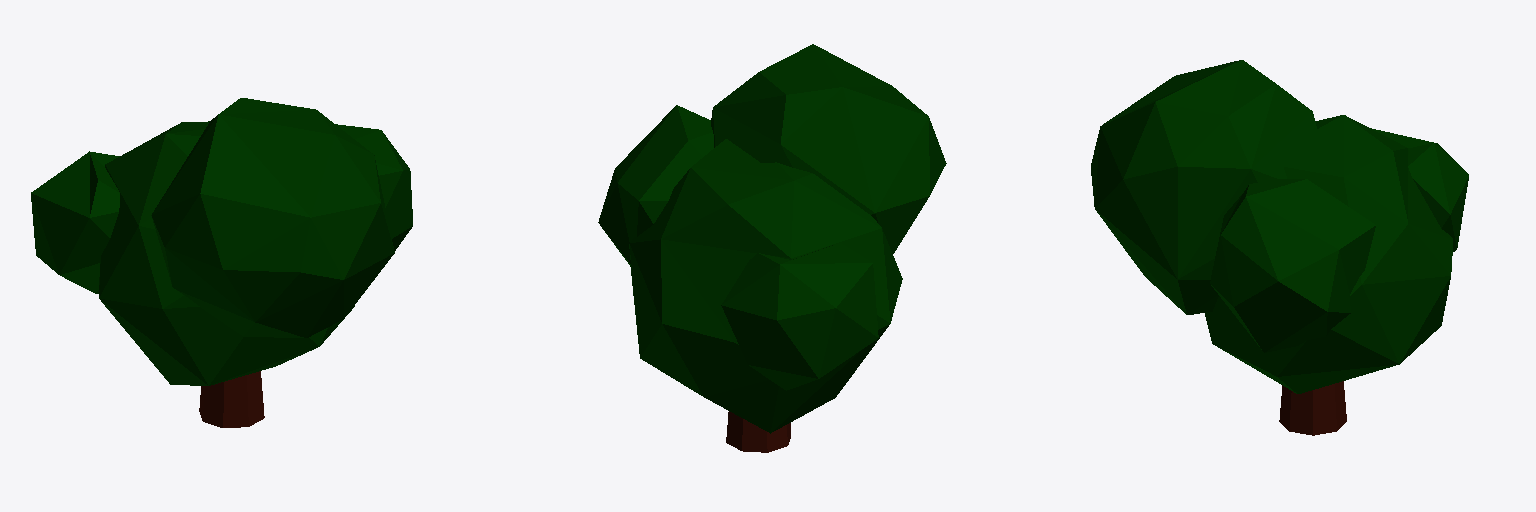
3 views of the same model, side by side, from view 1: azimuth 30°, elevation 25°; view 2: azimuth 150°, elevation 25°; view 3: azimuth 270°, elevation 25° (orthographic).
Visible parts, largest first — view 1: bush_5_summer_mat_Icosphere.006; view 2: bush_5_summer_mat_Icosphere.006; view 3: bush_5_summer_mat_Icosphere.006.
Boxes of the visible parts, box(x1,y1,x2,y2) form: bush_5_summer_mat_Icosphere.006: box(31, 98, 412, 427); bush_5_summer_mat_Icosphere.006: box(598, 44, 946, 452); bush_5_summer_mat_Icosphere.006: box(1091, 60, 1468, 435).
Size of the model in its own units: 1.25 by 1.32 by 1.34.